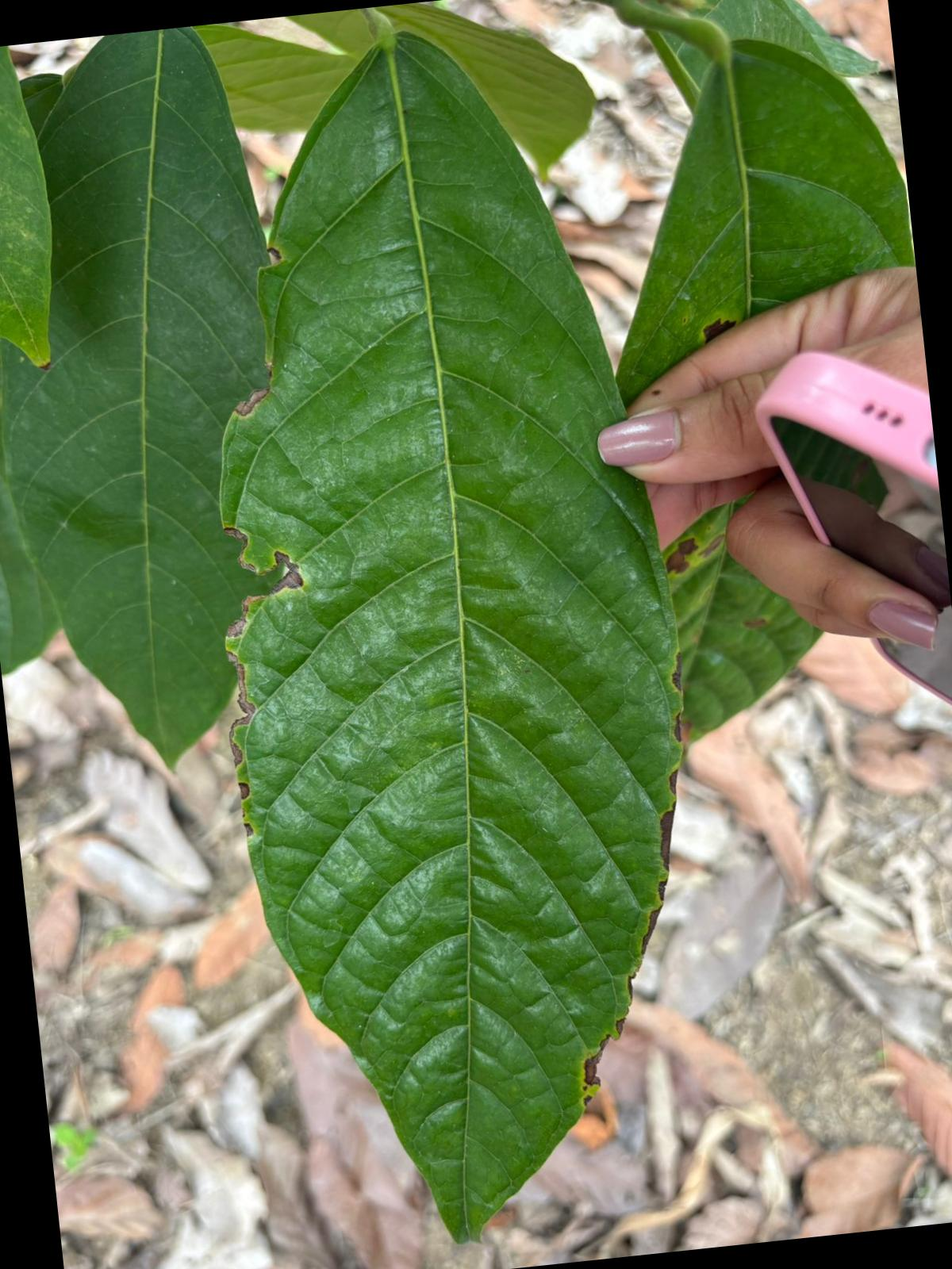Potasio: (223, 35, 681, 1240)
